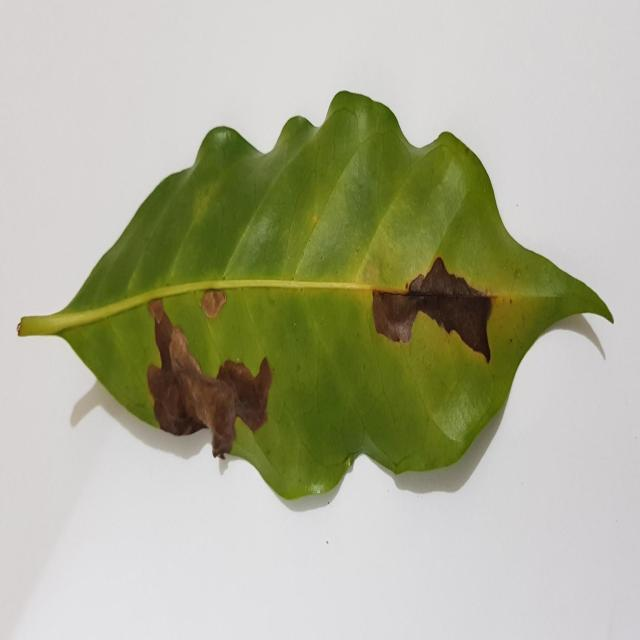Plaga-Minador: (18, 92, 613, 514)
